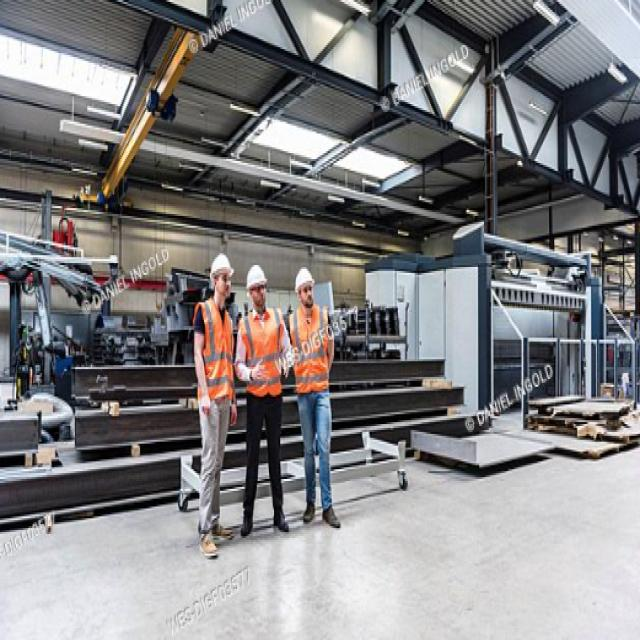hard_hat: (208, 251, 235, 300), (245, 264, 270, 314), (293, 266, 317, 312)
shoes: (195, 521, 235, 561), (238, 508, 290, 537), (301, 498, 343, 533)
vest: (193, 298, 237, 404), (237, 306, 287, 397), (286, 303, 333, 396)
